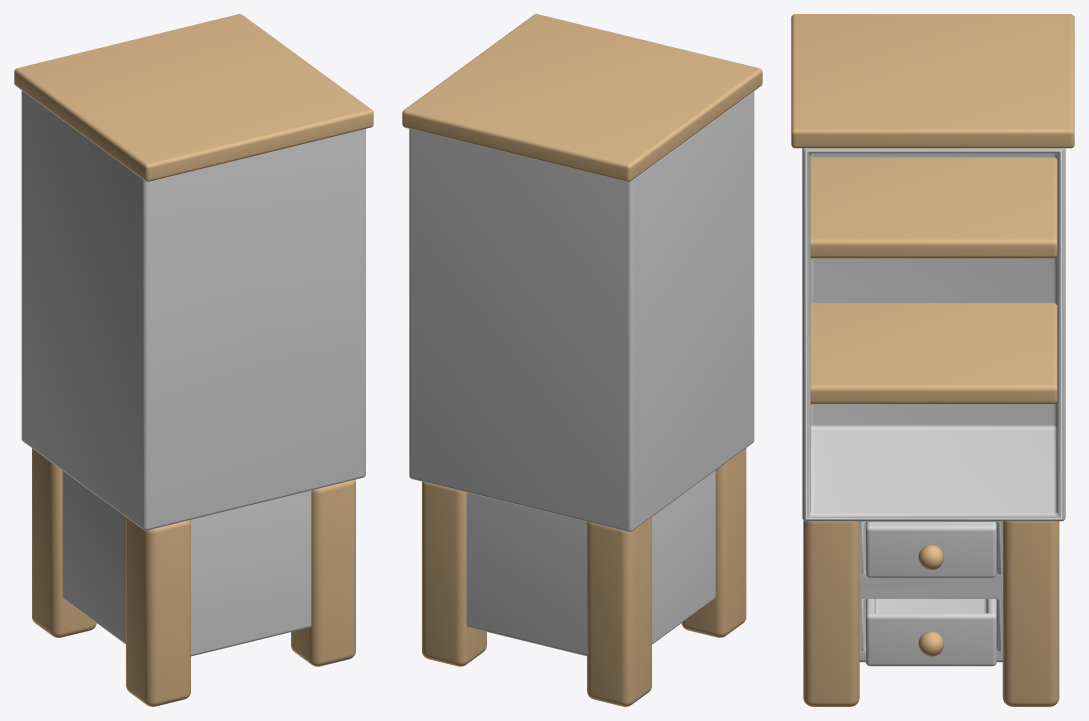
File: simple_library_C.glb
The picture shows the model from 3 angles, left to right: view 1: azimuth 30°, elevation 25°; view 2: azimuth 150°, elevation 25°; view 3: azimuth 270°, elevation 25°; orthographic projection. The views are drawn at different scales.
Parts seen in each view (by area): view 1: simple_library_C; view 2: simple_library_C; view 3: simple_library_C.
Boxes of the visible parts, x1=… form: simple_library_C: x1=14, y1=14, x2=373, y2=706; simple_library_C: x1=402, y1=14, x2=762, y2=706; simple_library_C: x1=791, y1=14, x2=1074, y2=706.
Bounding box in the file's own units: 0.731 × 1.48 × 0.6498.
